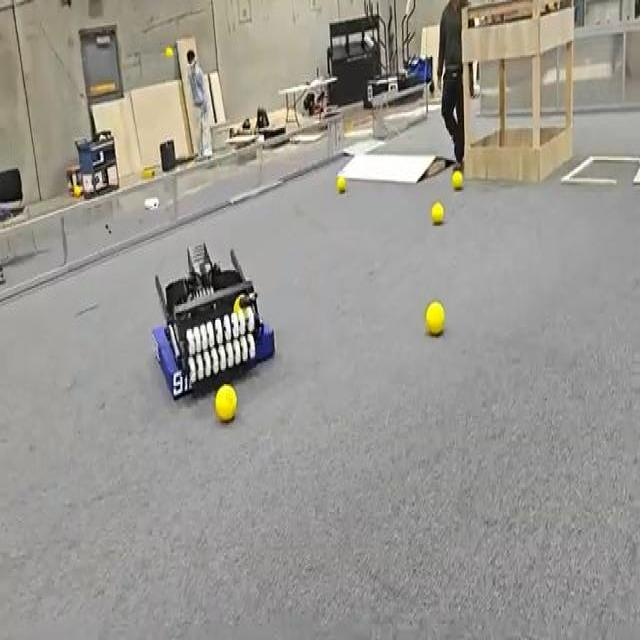Fuel: (215, 384, 237, 422), (215, 384, 236, 421), (425, 302, 445, 335), (425, 300, 444, 334), (431, 202, 444, 224), (431, 201, 443, 224), (451, 170, 463, 188), (336, 176, 346, 194), (336, 176, 346, 193), (165, 46, 173, 57)
